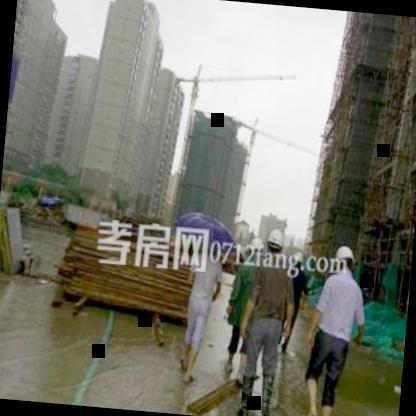helmet: (264, 224, 288, 262), (333, 243, 357, 280), (246, 232, 264, 264), (290, 248, 306, 274)
